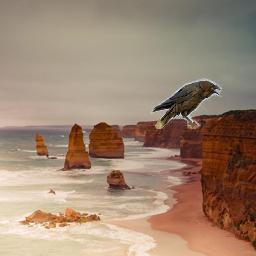Crow: (150, 77, 222, 129)
